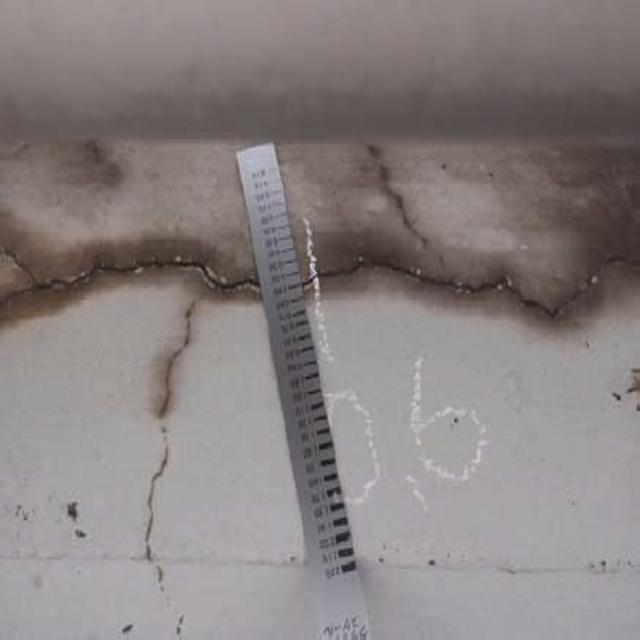crack: (5, 229, 258, 557), (283, 217, 637, 316)
